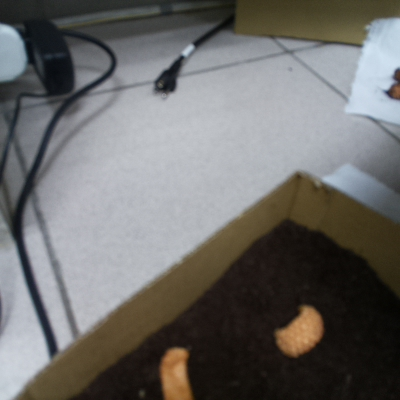eggs: (270, 298, 327, 361), (150, 339, 198, 400)
